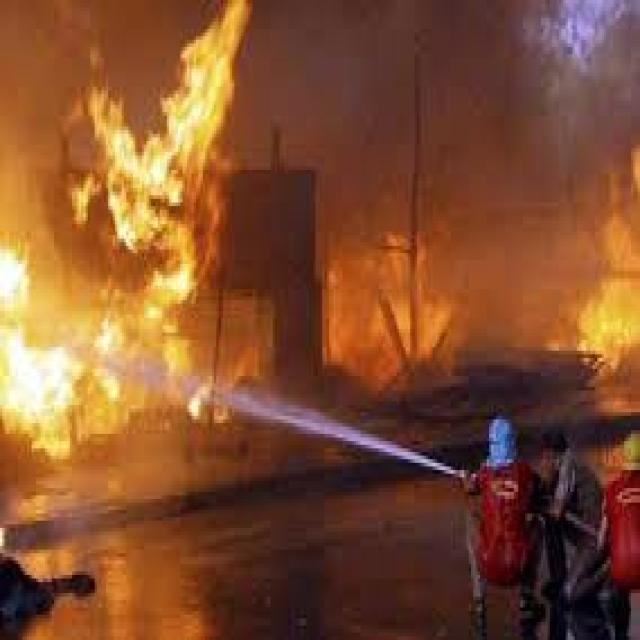Fire: (1, 0, 261, 457), (323, 209, 486, 394), (545, 142, 640, 413)
